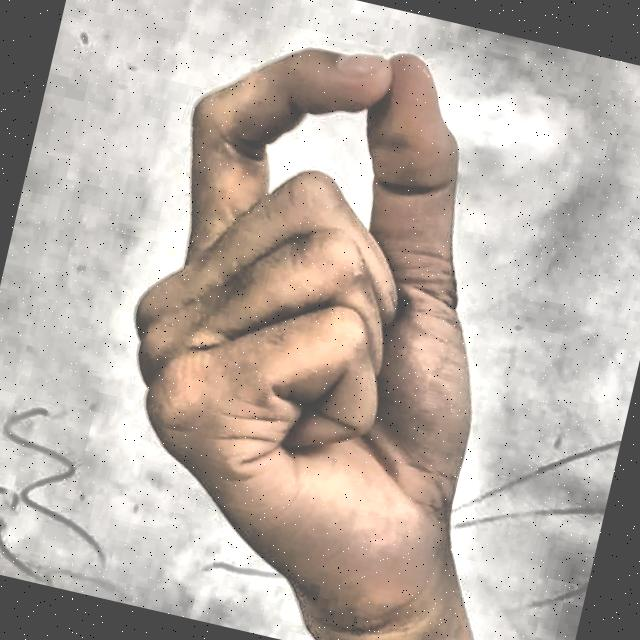Gha: (24, 0, 627, 640)
